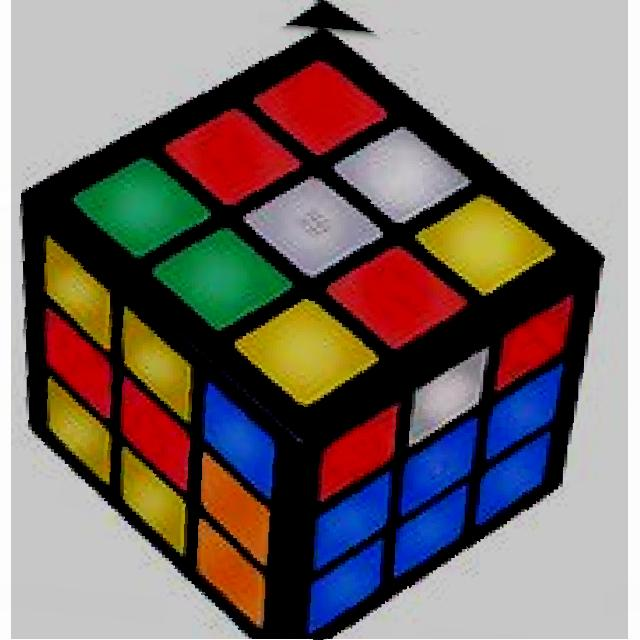cube: (17, 28, 604, 640)
